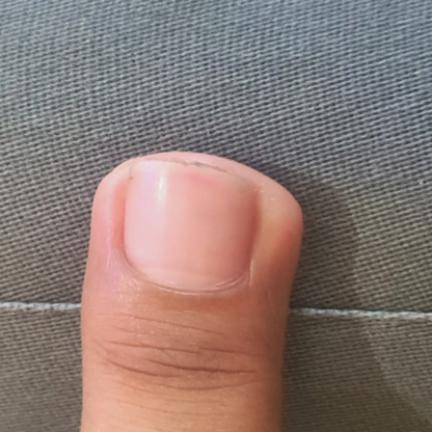Nail: (123, 161, 255, 289)
